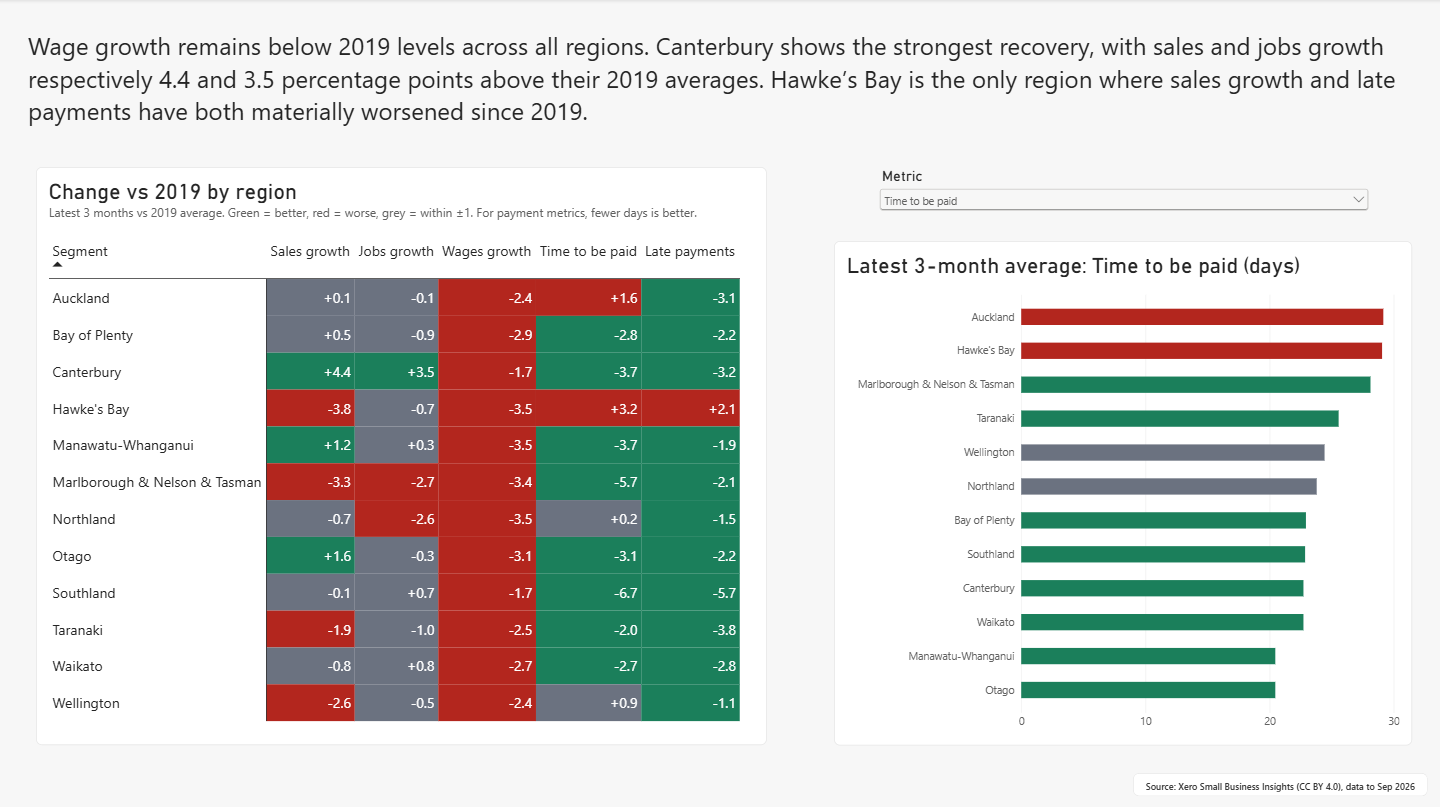

The page's visual inventory and layout, read from the dashboard file:
{"tool":"powerbi","page":{"name":"Regions","canvas":[1920,1080],"ordinal":1},"visuals":[{"type":"textbox","box":[40.2,40.2,1841,141.4],"z":0},{"type":"cardVisual","fields":{"Data":["_Measures.Source Note"]},"box":[1509.6,1029.5,392.4,31.9],"z":1000},{"type":"pivotTable","title":"Change vs 2019 by region","fields":{"Columns":["DimMetric.MetricName"],"Rows":["DimSegment.Segment"],"Values":["_Measures.Change vs 2019"]},"box":[49.9,223.2,971.8,769.4],"z":2000},{"type":"slicer","fields":{"Values":["DimMetric.MetricName"]},"box":[1167.2,223.2,659.9,84.6],"z":3000},{"type":"clusteredBarChart","fields":{"Category":["DimSegment.Segment"],"Y":["_Measures.Latest 3M Avg"]},"box":[1111.8,321.6,769.4,671],"z":4000}]}

Visuals, with their boxes in screenshot pixels (x1, y1, x2, y2), scaled from the page's 1920x1080 canvas onto the 1440x807 screenshot:
textbox: [left=30, top=30, right=1411, bottom=136]
cardVisual - _Measures.Source Note: [left=1132, top=769, right=1426, bottom=793]
"Change vs 2019 by region" pivotTable: [left=37, top=167, right=766, bottom=742]
slicer - DimMetric.MetricName: [left=875, top=167, right=1370, bottom=230]
clusteredBarChart - DimSegment.Segment x _Measures.Latest 3M Avg: [left=834, top=240, right=1411, bottom=742]
